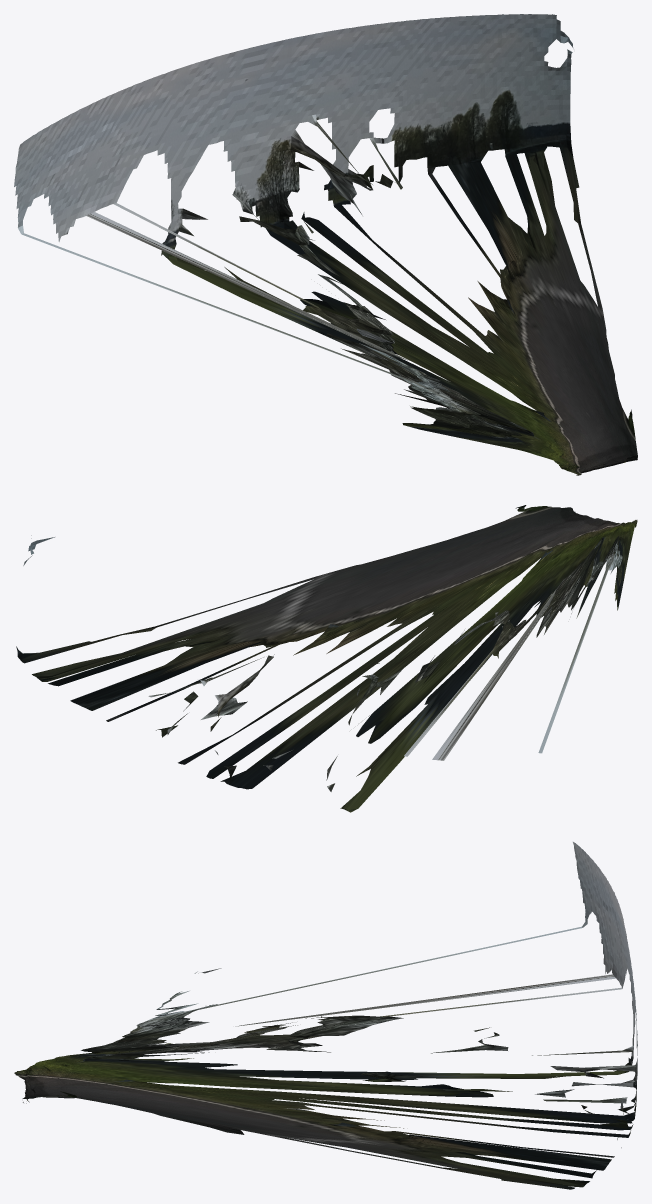
3 views of the same model, one above another, from view 1: azimuth 30°, elevation 25°; view 2: azimuth 150°, elevation 25°; view 3: azimuth 270°, elevation 25° (orthographic). The views are drawn at different scales.
Parts seen in each view (by area): view 1: defaultobject; view 2: defaultobject; view 3: defaultobject.
Part boxes in pixels (bbox=[...]): defaultobject: bbox=[14, 14, 637, 475]; defaultobject: bbox=[16, 505, 637, 812]; defaultobject: bbox=[14, 842, 637, 1189].
Bounding box in the file's own units: 39.92 × 13.19 × 44.95.
Materials: 1 (1 with a texture image).
